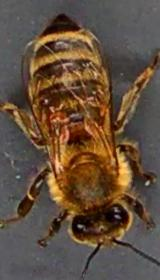varroa_mite: (42, 102, 72, 128)
